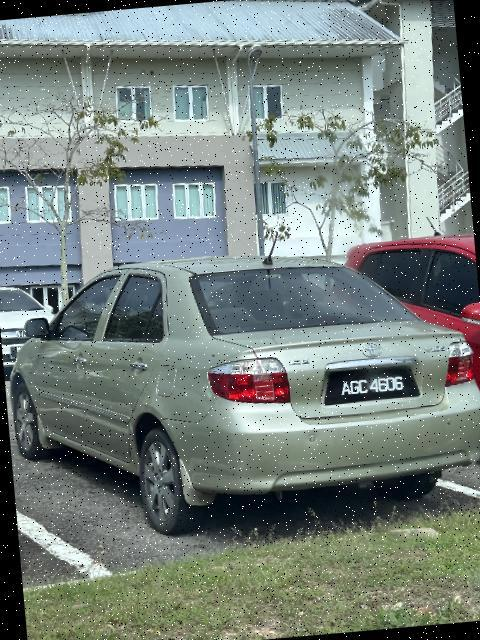AGC4606: (329, 366, 418, 406)
License_Plate: (329, 366, 418, 406)
car: (1, 230, 480, 545)
